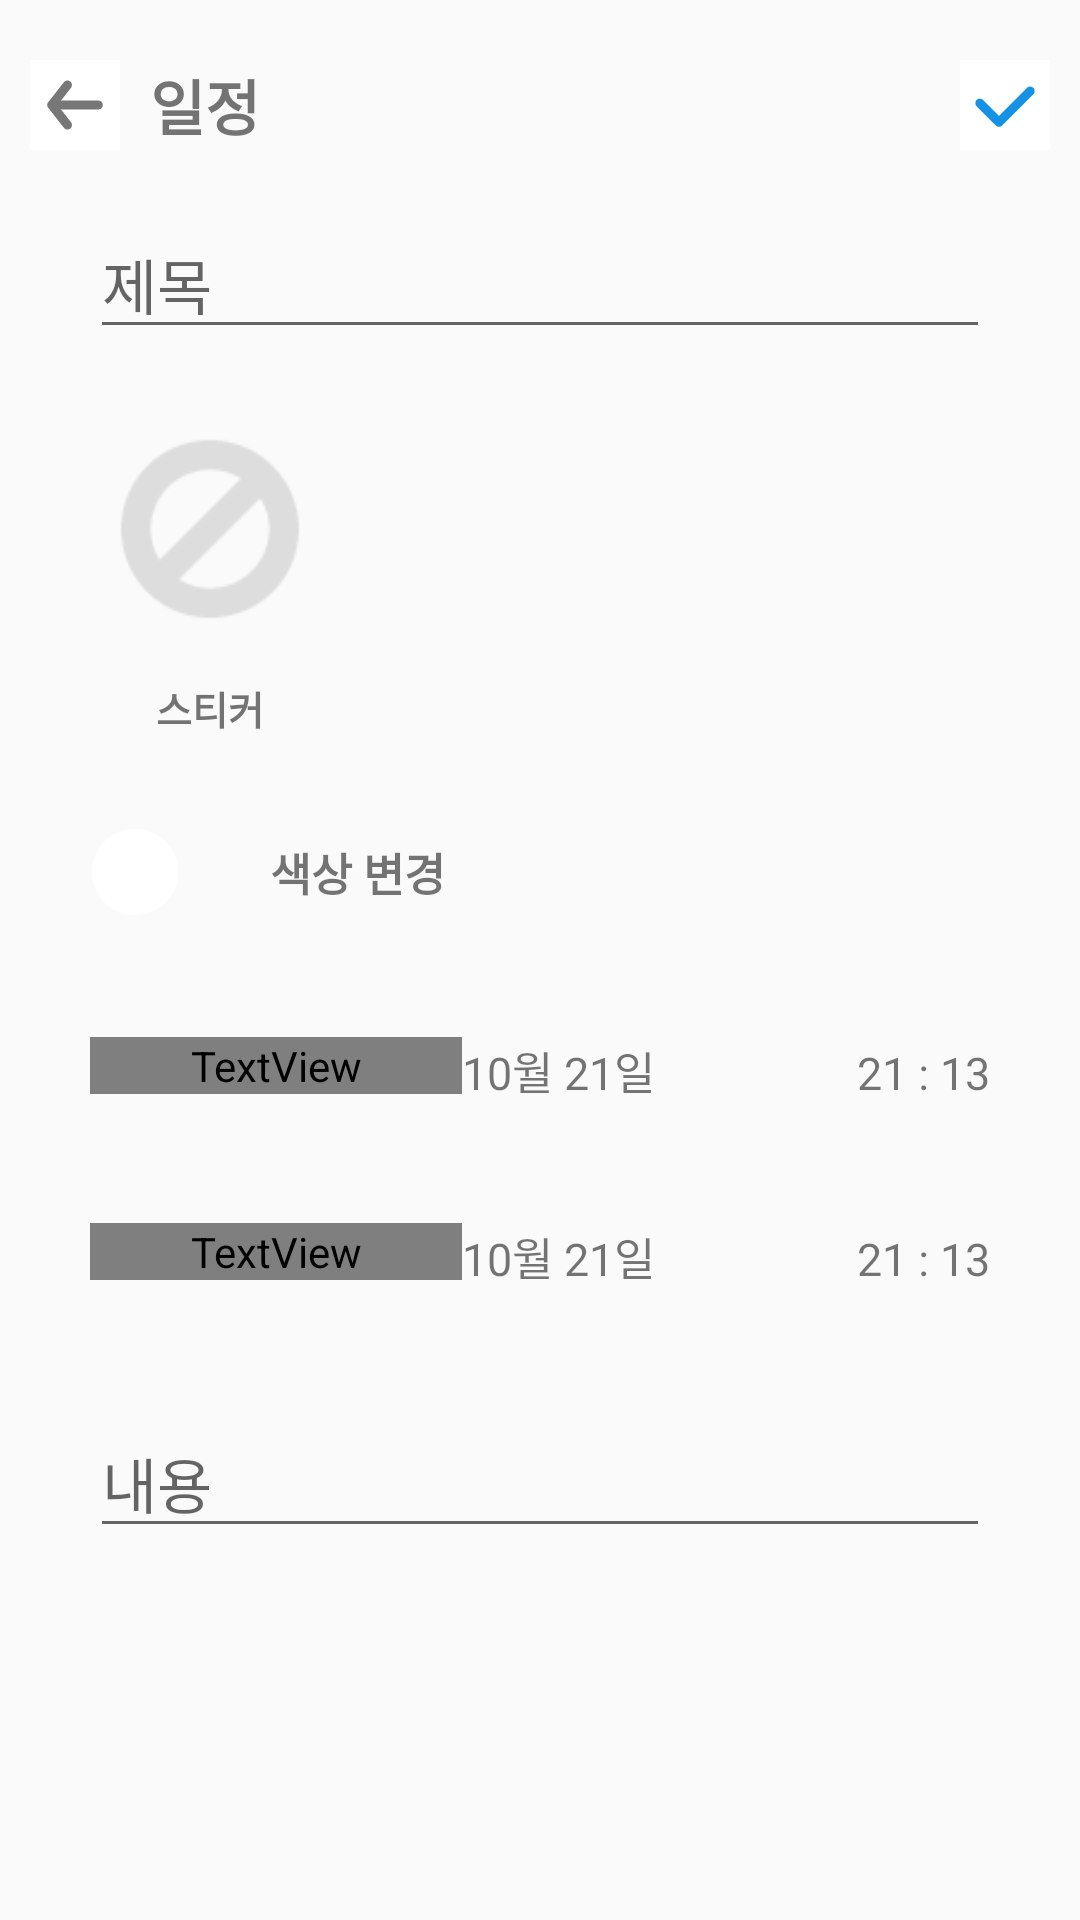

Icons on this 1080 x 1920 Android screen, each with its box as (x1, y1, x2, y2):
cancle: (47, 80, 103, 130)
none: (122, 441, 298, 617)
